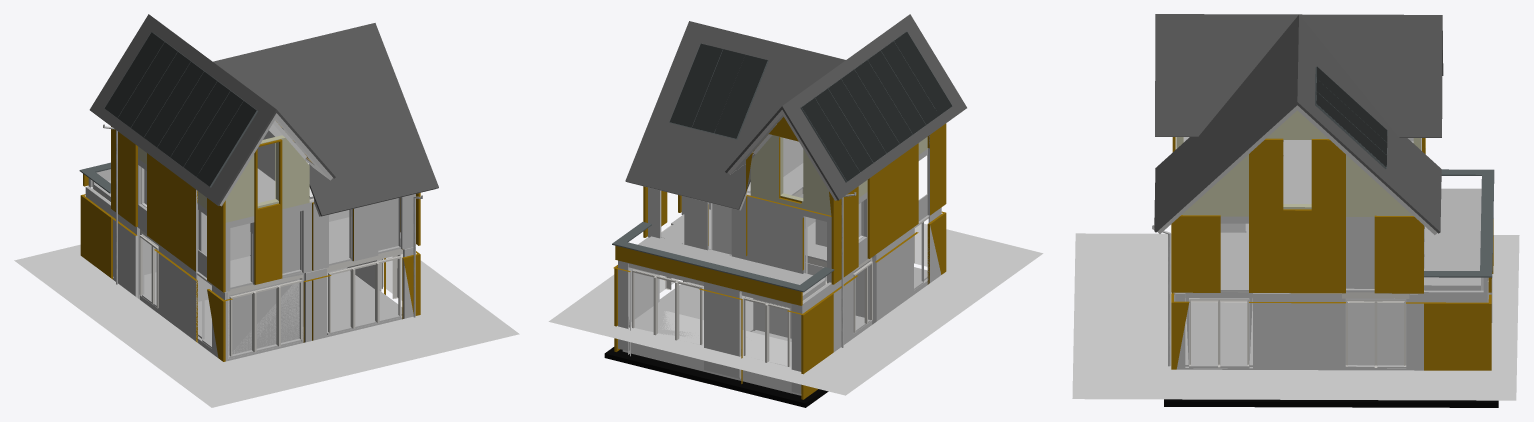
3 views of the same model, side by side, from view 1: azimuth 30°, elevation 25°; view 2: azimuth 150°, elevation 25°; view 3: azimuth 270°, elevation 25° (orthographic). The views are drawn at different scales.
Bounding box in the file's own units: 14.03 × 12.06 × 15.85.
